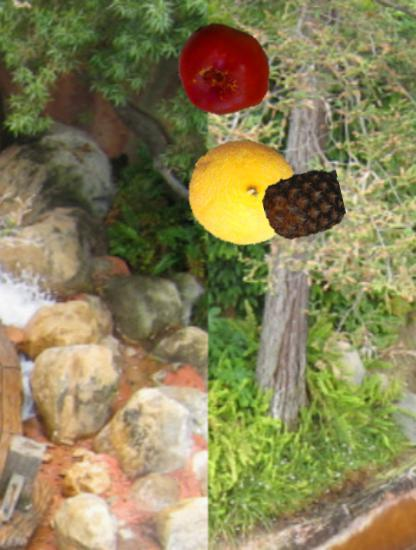Cantaloupe: (188, 136, 300, 248)
Nectarine: (175, 22, 273, 120)
Pineapple: (264, 165, 344, 245)
